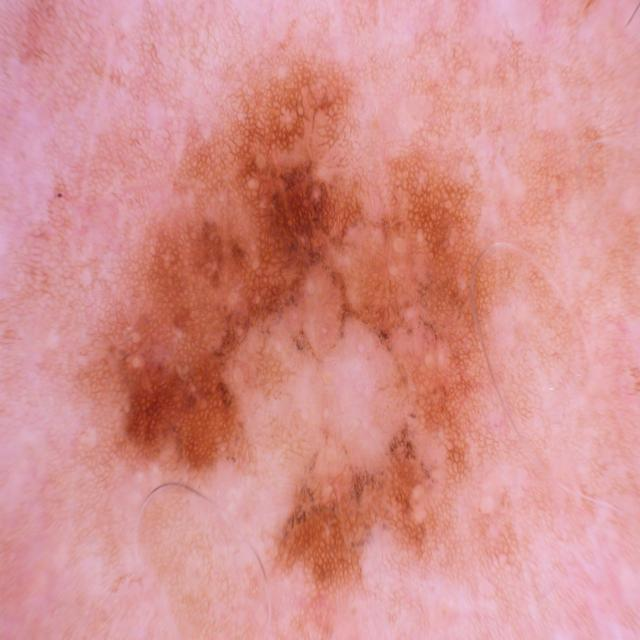Benign: (114, 60, 514, 587)
